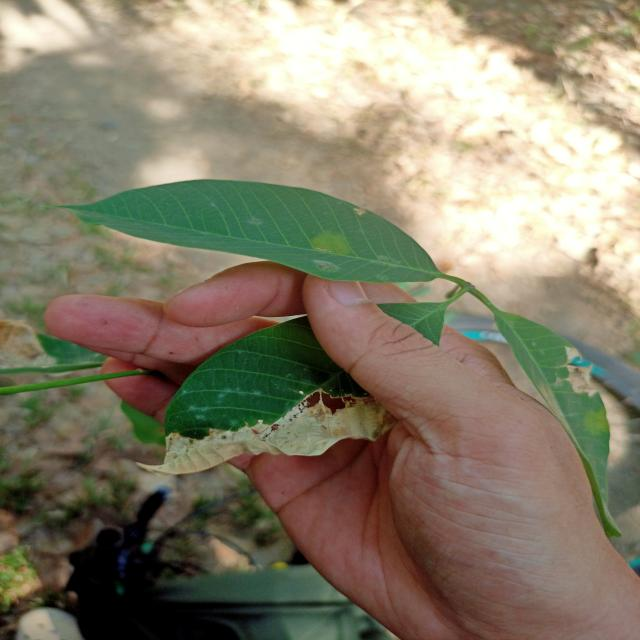Leaf-Blight: (136, 388, 398, 476), (565, 346, 597, 396)
